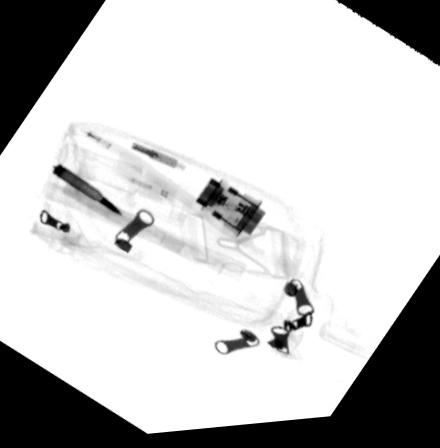Bullet: (50, 163, 124, 219)
